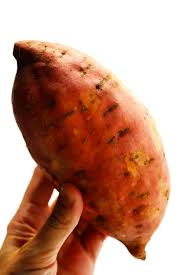Sweet Potato: (5, 35, 183, 252)
